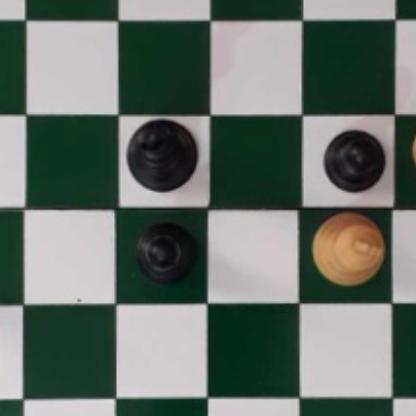black-king: (120, 116, 196, 190)
black-pawn: (134, 220, 200, 288), (321, 126, 383, 192)
white-bishop: (409, 113, 416, 187)
white-king: (313, 206, 383, 286)
